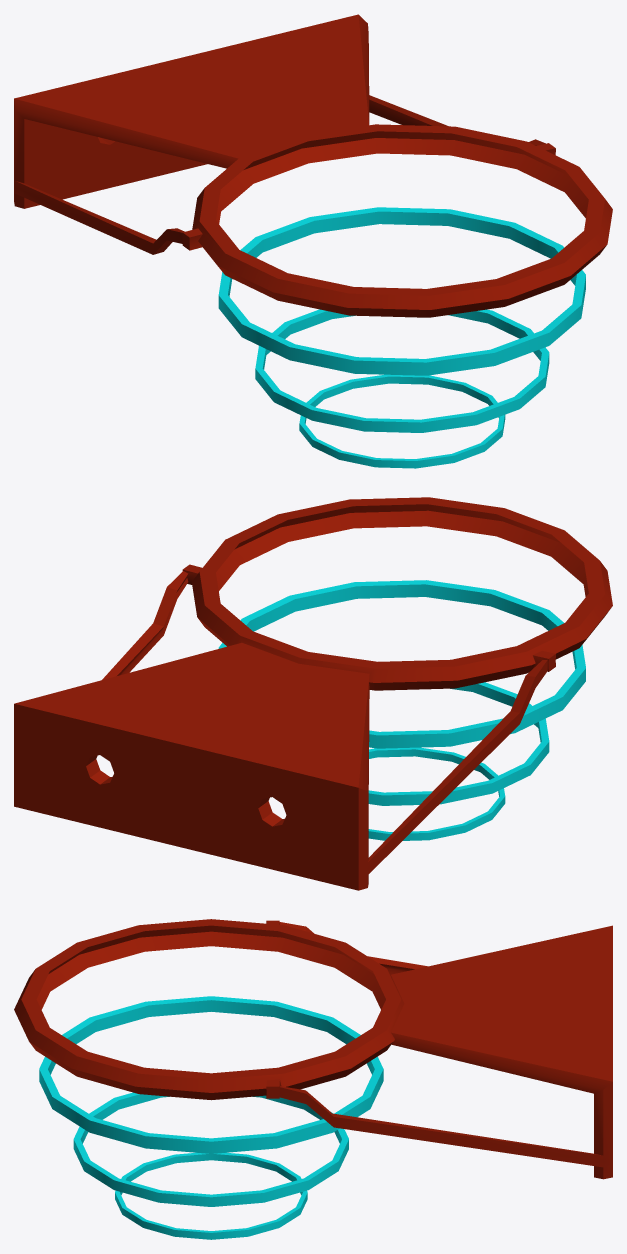
File: Basket_Ring.fbx
3 views of the same model, one above another, from view 1: azimuth 30°, elevation 25°; view 2: azimuth 150°, elevation 25°; view 3: azimuth 270°, elevation 25° (orthographic). The views are drawn at different scales.
Parts seen in each view (by area): view 1: Basket Ring, Basket_Neon_Ring1, Basket_Neon_Ring2, Basket_Neon_Ring3; view 2: Basket Ring, Basket_Neon_Ring1, Basket_Neon_Ring2, Basket_Neon_Ring3; view 3: Basket Ring, Basket_Neon_Ring1, Basket_Neon_Ring2, Basket_Neon_Ring3.
Part boxes in pixels (x1,y1,x2,y2): Basket Ring: (14, 14, 612, 317); Basket_Neon_Ring1: (218, 207, 585, 375); Basket_Neon_Ring2: (255, 309, 549, 432); Basket_Neon_Ring3: (299, 374, 505, 468); Basket Ring: (14, 497, 612, 890); Basket_Neon_Ring1: (218, 580, 585, 748); Basket_Neon_Ring2: (368, 682, 549, 805); Basket_Neon_Ring3: (368, 747, 505, 840); Basket Ring: (14, 919, 612, 1179); Basket_Neon_Ring1: (39, 996, 383, 1153); Basket_Neon_Ring2: (73, 1092, 348, 1206); Basket_Neon_Ring3: (115, 1152, 307, 1239).
Bounding box in the file's own units: 208 × 116 × 315.
